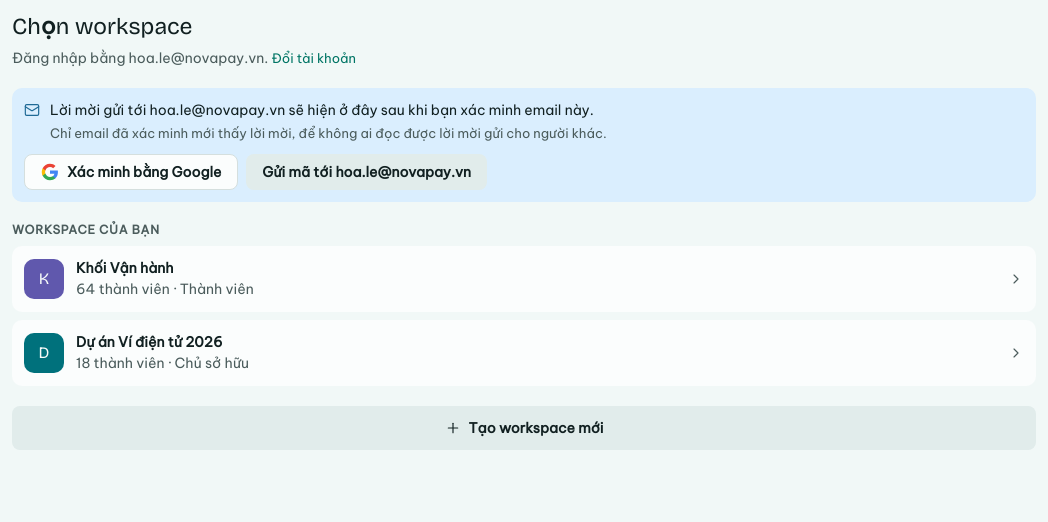
Test case: Workspace selection: an address nobody has proved › says why no code was sent when the server cannot deliver one that proves anything
Click the button "Gửi mã tới hoa.le@novapay.vn" at (367, 172), box [246, 154, 487, 190]
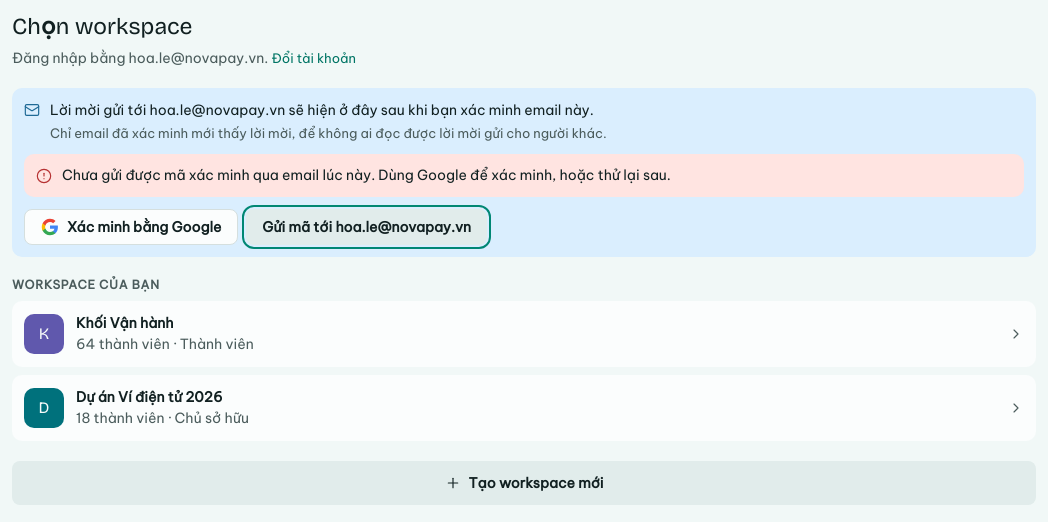
Expected: the message shows "Dùng Google", [62, 166, 671, 184]
